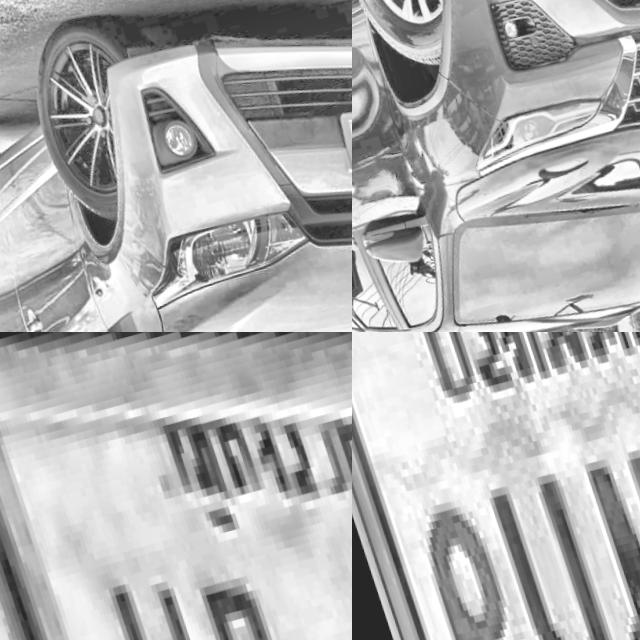license-plate: (0, 332, 352, 640), (352, 332, 640, 640)
